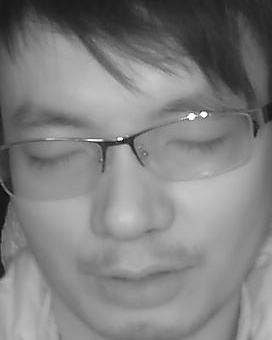glass: (133, 112, 256, 180), (1, 138, 108, 198)
mouth: (83, 252, 192, 309)
